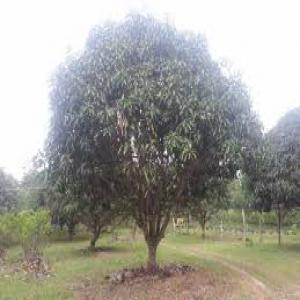Tree: (43, 10, 265, 268)
